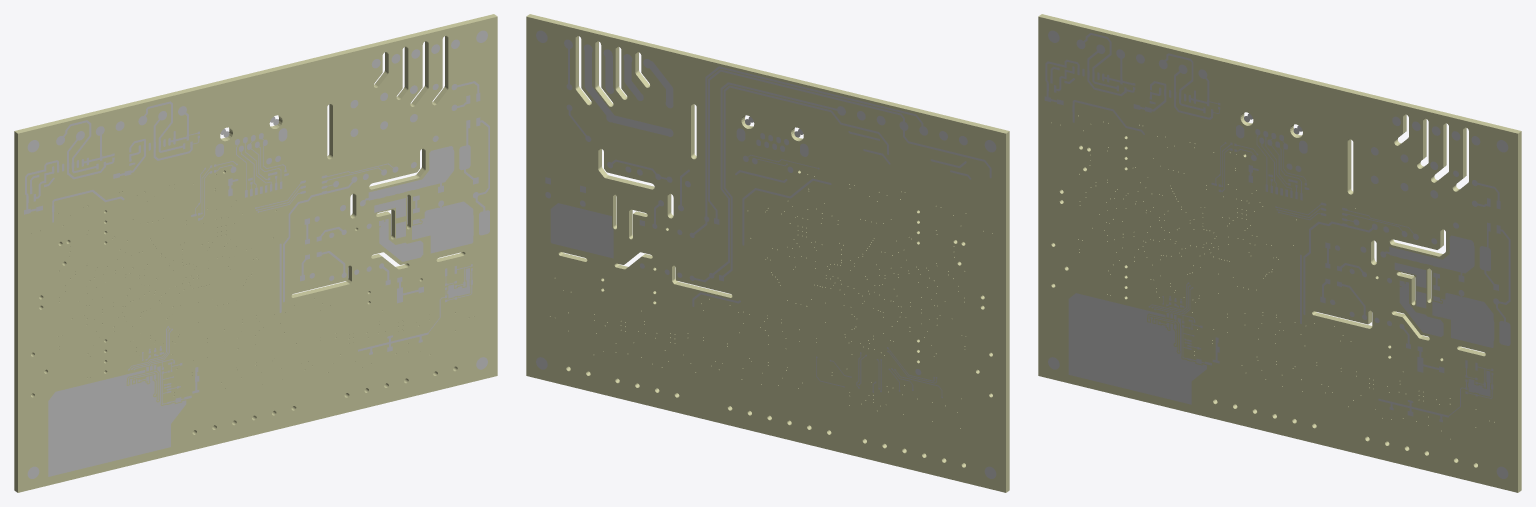
The picture shows the model from 3 angles, left to right: view 1: azimuth 30°, elevation 25°; view 2: azimuth 150°, elevation 25°; view 3: azimuth 330°, elevation 25°; orthographic projection.
Parts seen in each view (by area): view 1: PCB_Mesh; view 2: PCB_Mesh; view 3: PCB_Mesh.
Part boxes in pixels (x1,y1,x2,y2): PCB_Mesh: (14,14,497,492); PCB_Mesh: (526,14,1009,492); PCB_Mesh: (1038,14,1521,492).
Size of the model in its own units: 12300 by 8800 by 160.
